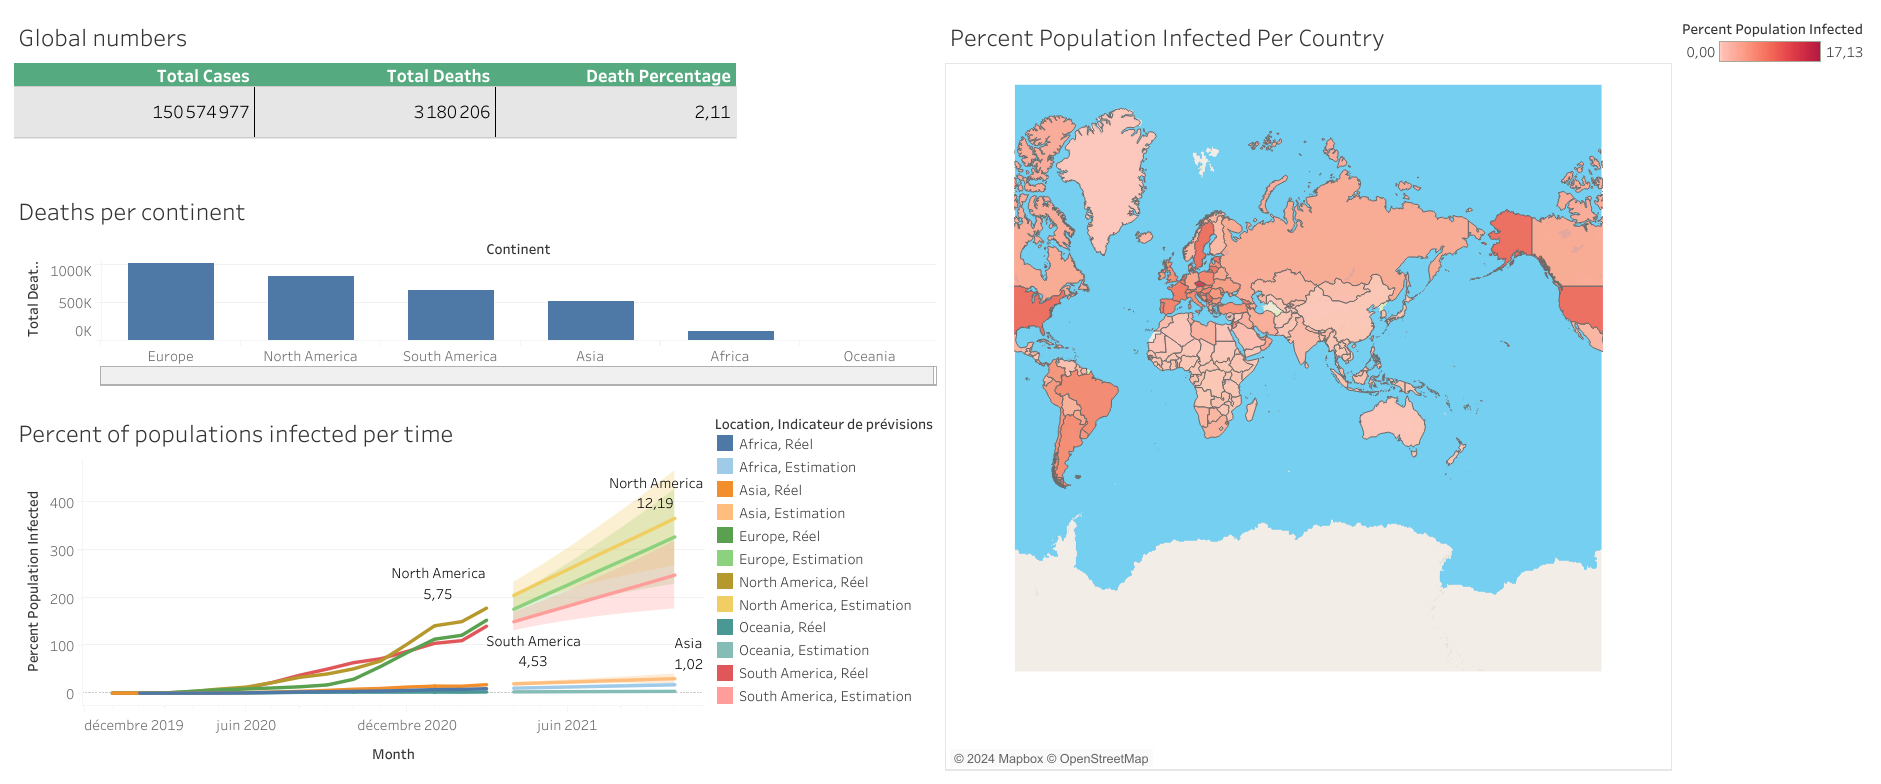

This screenshot's page, from the dashboard's own definition file:
{"tool":"tableau","page":{"name":"Dashboard 1","canvas":[1000,1000],"units":"permille","ordinal":0},"visuals":[{"type":"worksheet","title":"Sheet 1","mark":"Automatic","box":[4.6,9.7,495.1,222.8]},{"type":"worksheet","title":"Sheet 3","mark":"Automatic","box":[499.7,9.7,391.4,980.6]},{"type":"legend","title":"Sheet 3","param":"[federated.10jk7yb06d7ewk1h2rqwr1yylx0e].[sum:PercentPopulationInfected:qk]","box":[891.1,9.7,104.3,980.6]},{"type":"worksheet","title":"Sheet 2","mark":"Bar","rows":["TotalDeathCount"],"cols":["location"],"box":[4.6,232.5,495.1,284.5]},{"type":"worksheet","title":"Sheet 4","mark":"Automatic","rows":["PercentPopulationInfected"],"cols":["date"],"box":[4.6,517,372.2,473.4]},{"type":"legend","title":"Sheet 4","param":"[federated.1sj8zcs0umcybc12apf2p1ptdf31].[none:Location:nk]\n[federated.1sj8zcs0u","box":[376.8,517,122.9,473.4]}]}

Visuals, with their boxes on the dashboard's canvas, which has no fixed pixel size, in thousandths of its width and height (x1, y1, x2, y2). These are canvas units, not pixel positions in the 1881x784 screenshot, which may show the page scaled, cropped or inside an application window:
"Sheet 1" worksheet: <region>5, 10, 500, 232</region>
"Sheet 3" worksheet: <region>500, 10, 891, 990</region>
"Sheet 3" legend: <region>891, 10, 995, 990</region>
"Sheet 2" worksheet (Bar marks): <region>5, 232, 500, 517</region>
"Sheet 4" worksheet: <region>5, 517, 377, 990</region>
"Sheet 4" legend: <region>377, 517, 500, 990</region>
